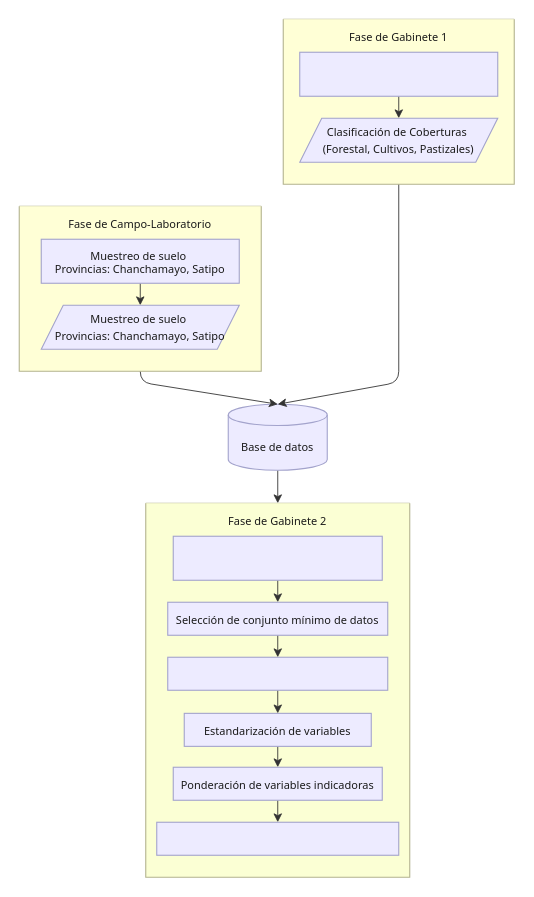
This 534x897 diagram has some shape labels left out. Each missing label, with the centre of its shape:
"Análisis de asociación (Correlación con coeficientes de Pearson)" goes at pixel 277 557.
"Análisis de principales componentes - APC" goes at pixel 277 673.
"Cálculo de índice de calidad de suelo ponderado" goes at pixel 277 838.
"Obtención de imágenes satelitales (ESA WorldCover 10m 2021 v200*)" goes at pixel 398 73.
